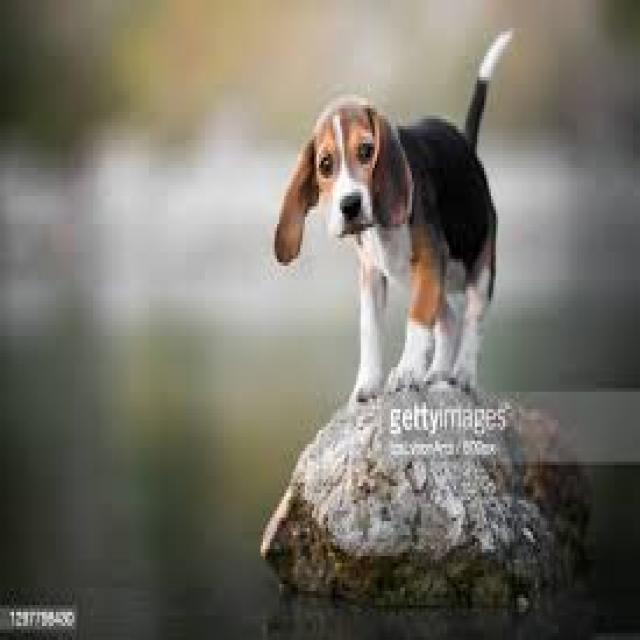Dog: (270, 25, 517, 409)
